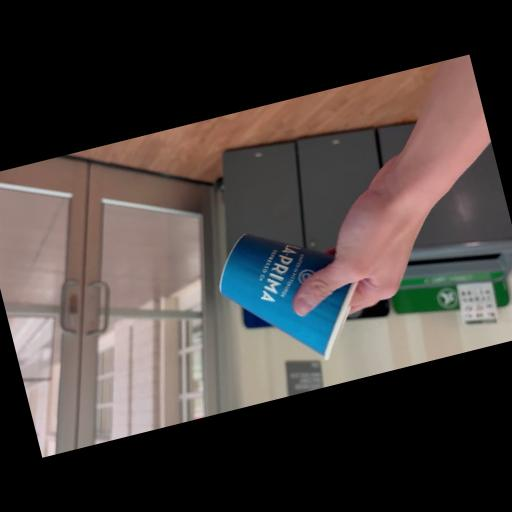lp_paper_cup: (204, 204, 384, 386)
